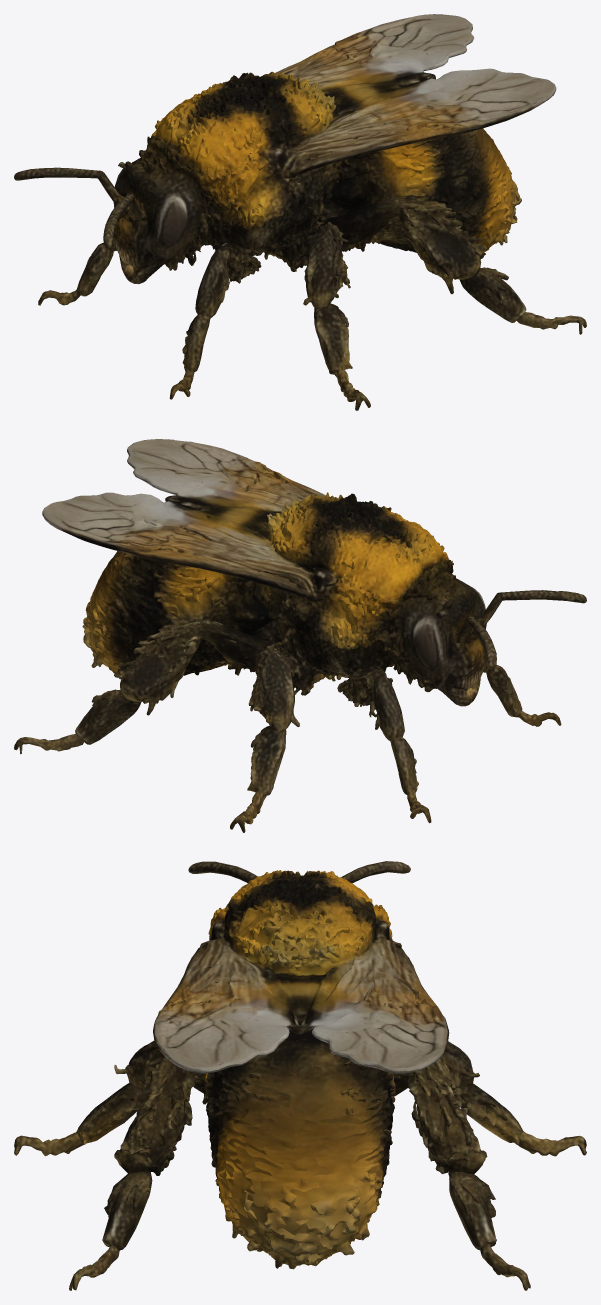
File: alpine-bee-v18.glb
3 views of the same model, one above another, from view 1: azimuth 30°, elevation 25°; view 2: azimuth 150°, elevation 25°; view 3: azimuth 270°, elevation 25° (orthographic). The views are drawn at different scales.
Visible parts, largest first — view 1: geometry_0; view 2: geometry_0; view 3: geometry_0.
Part boxes in pixels (x1=…): geometry_0: x1=14, y1=14, x2=586, y2=410; geometry_0: x1=14, y1=439, x2=586, y2=832; geometry_0: x1=14, y1=861, x2=586, y2=1290.
Bounding box in the file's own units: 0.02 × 0.0099 × 0.0187.
1 material, 1 textured.
